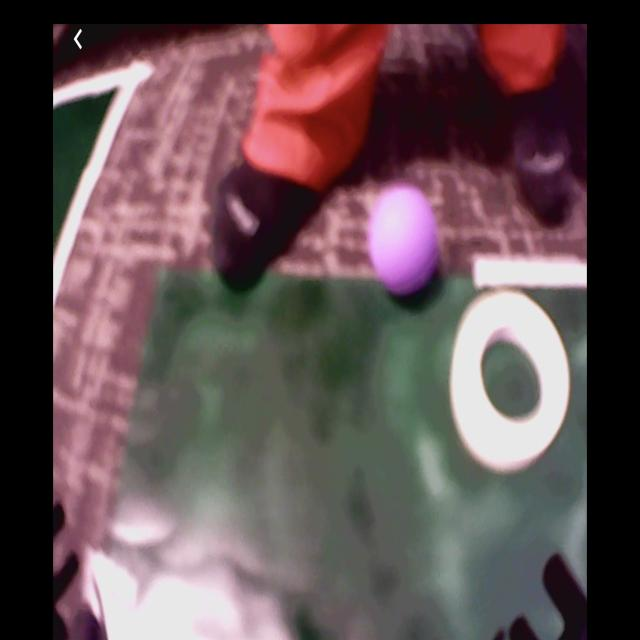ball: (370, 186, 439, 293)
